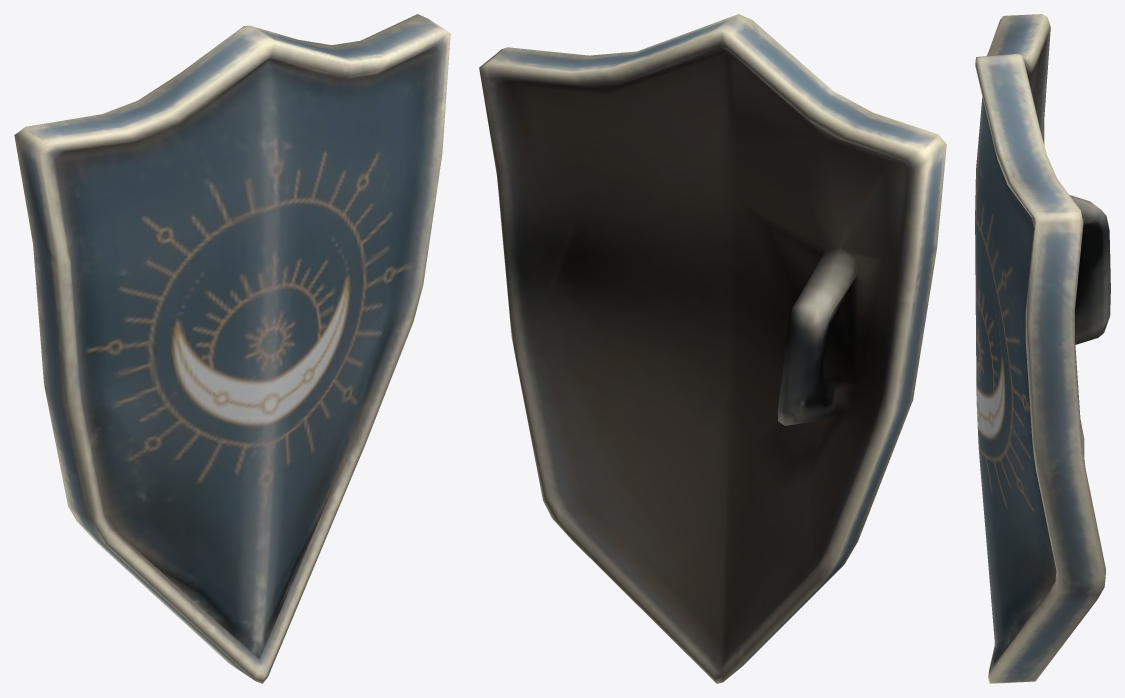
Rendered from Shield_Metal_4.glb.
3 views of the same model, side by side, from view 1: azimuth 30°, elevation 25°; view 2: azimuth 150°, elevation 25°; view 3: azimuth 270°, elevation 25° (orthographic). The views are drawn at different scales.
Visible parts, largest first — view 1: shield_low.001; view 2: shield_low.001; view 3: shield_low.001.
Part boxes in pixels (x1,y1,x2,y2): shield_low.001: (14, 14, 450, 683); shield_low.001: (479, 14, 946, 683); shield_low.001: (975, 14, 1110, 683).
Bounding box in the file's own units: 0.6669 × 0.9528 × 0.1869.
1 material, 1 textured.
